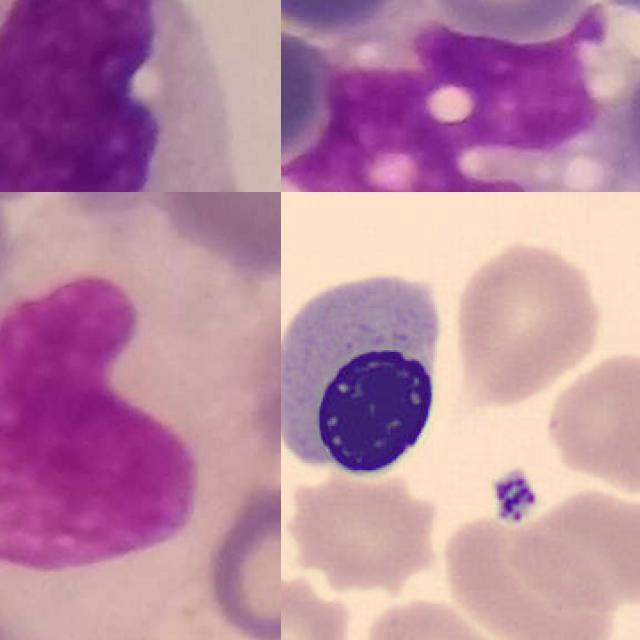Lymphocyte: (281, 260, 458, 484)
Monocyte: (306, 0, 640, 192), (0, 264, 207, 570), (0, 0, 237, 192)
Platelets: (488, 467, 540, 527)
RBC: (448, 238, 608, 411), (511, 486, 640, 611), (543, 344, 640, 498), (362, 593, 573, 640), (281, 568, 358, 640)
